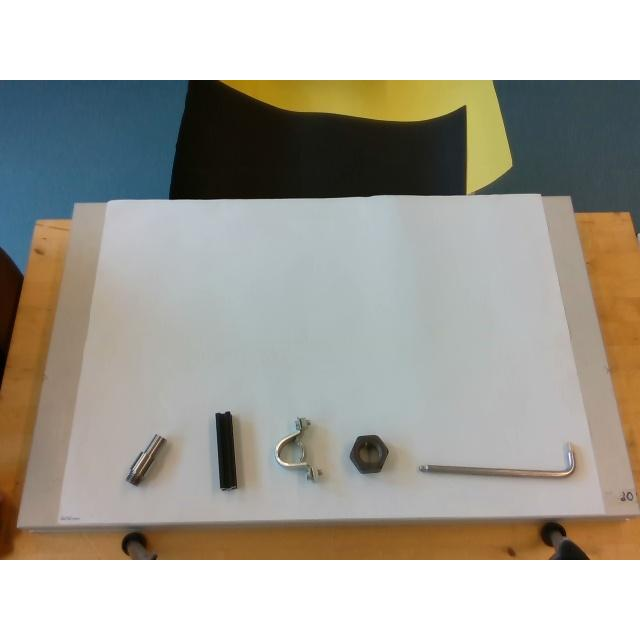AllenKey: (419, 443, 575, 477)
Axis2: (126, 434, 166, 484)
F20_20_B: (215, 411, 237, 489)
Housing: (274, 418, 314, 478)
M30: (350, 435, 388, 473)
